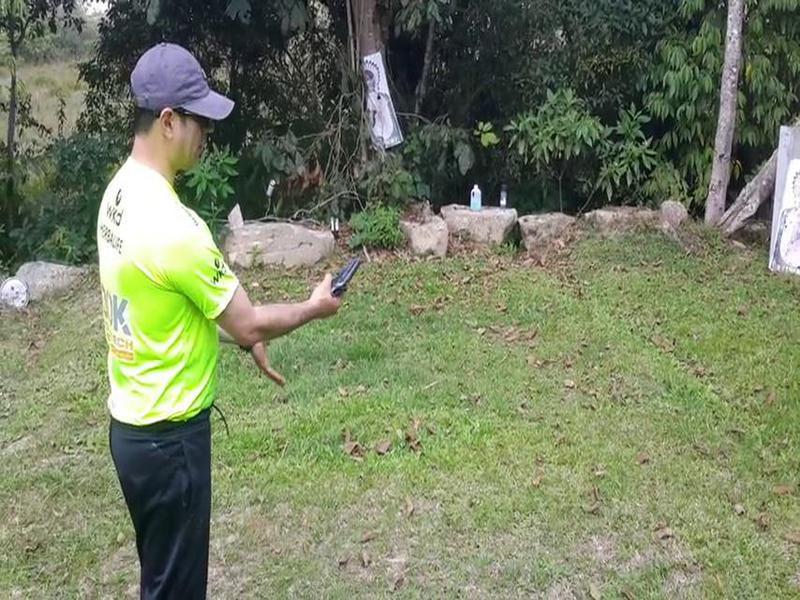Pistola: (309, 254, 367, 313)
